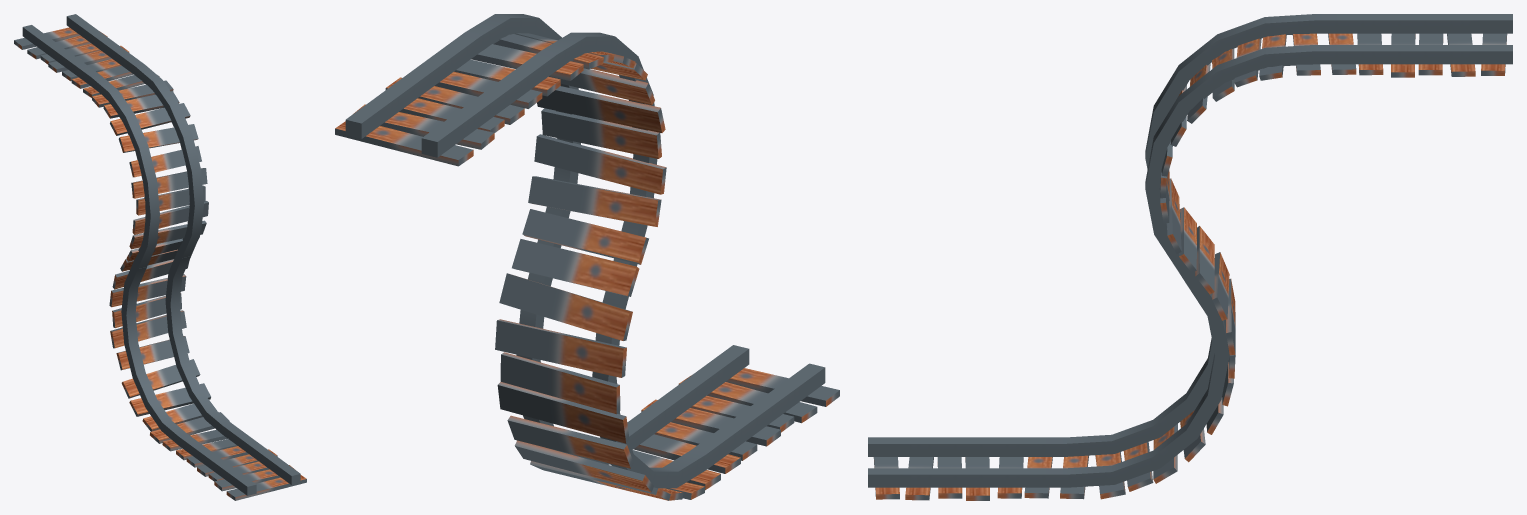
Rendered from long_down1.fbx.
3 views of the same model, side by side, from view 1: azimuth 30°, elevation 25°; view 2: azimuth 150°, elevation 25°; view 3: azimuth 270°, elevation 25° (orthographic). The views are drawn at different scales.
Visible parts, largest first — view 1: long_down1; view 2: long_down1; view 3: long_down1.
Part boxes in pixels (x1=…): long_down1: x1=14, y1=14, x2=306, y2=500; long_down1: x1=335, y1=14, x2=839, y2=500; long_down1: x1=868, y1=14, x2=1512, y2=500.
Bounding box in the file's own units: 12.59 × 49.49 × 65.44.
